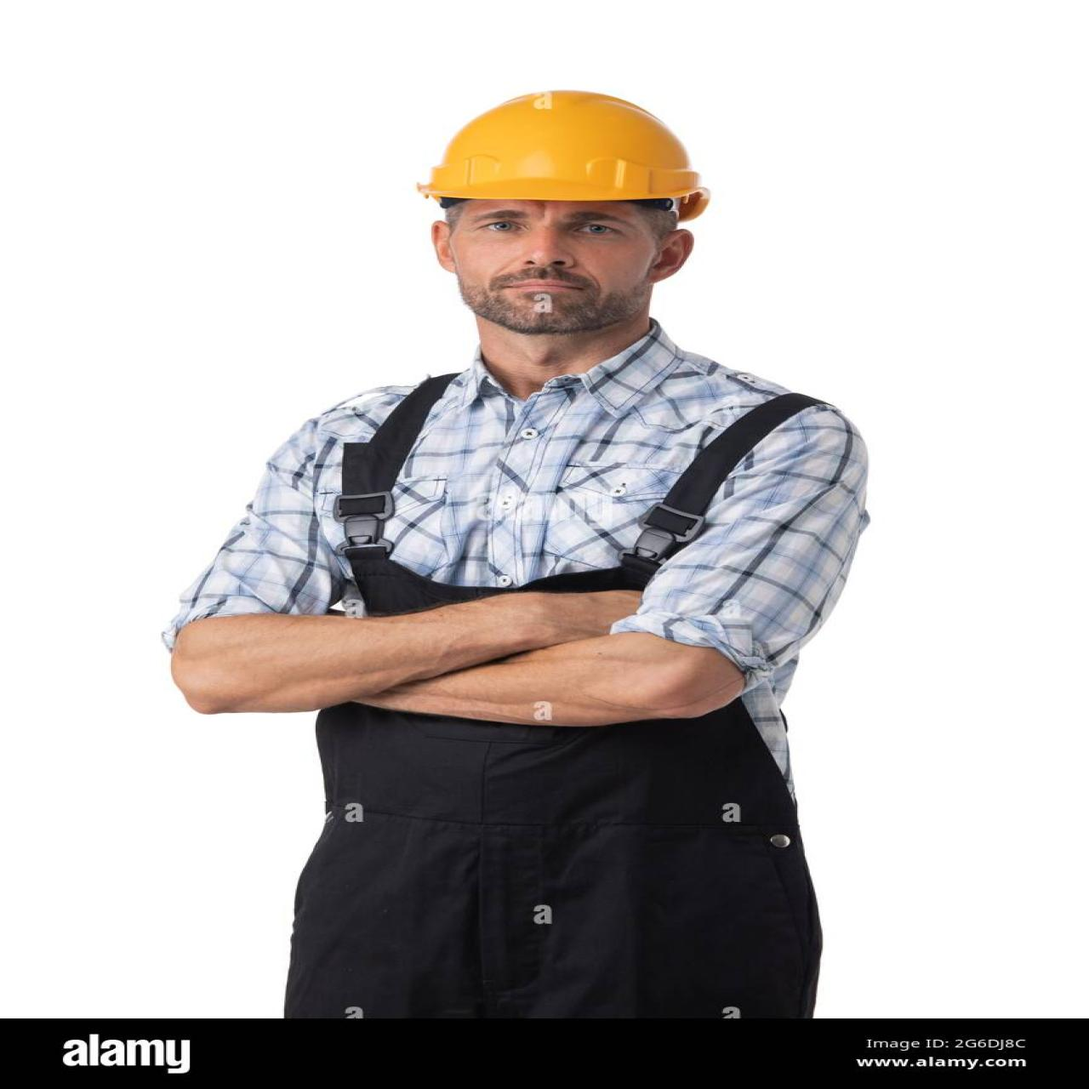NO_Safety_Vest: (217, 347, 869, 848)
Person: (132, 67, 937, 1013)
